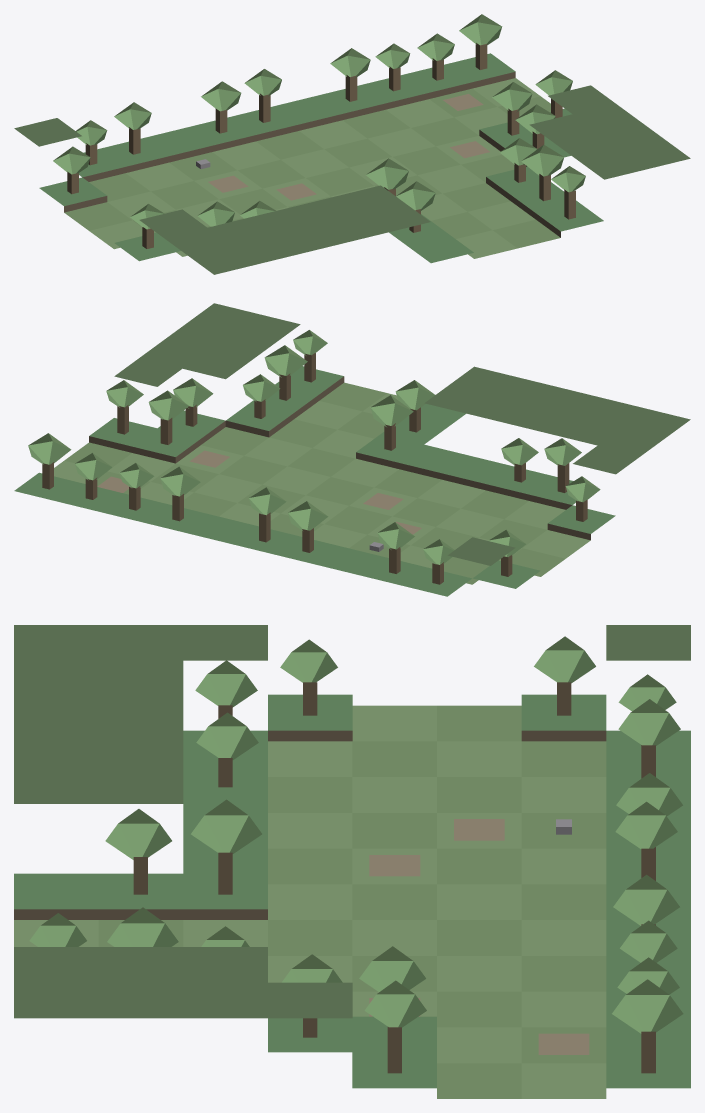
The picture shows the model from 3 angles, top to bottom: view 1: azimuth 30°, elevation 25°; view 2: azimuth 150°, elevation 25°; view 3: azimuth 270°, elevation 25°; orthographic projection. The views are drawn at different scales.
Parts seen in each view (by area): view 1: mesh0; view 2: mesh0; view 3: mesh0.
Boxes of the visible parts, x1,y1,x2,y2 form: mesh0: (14, 14, 690, 274); mesh0: (14, 303, 690, 596); mesh0: (14, 625, 690, 1098).
Bounding box in the file's own units: 11 × 1.33 × 8.
